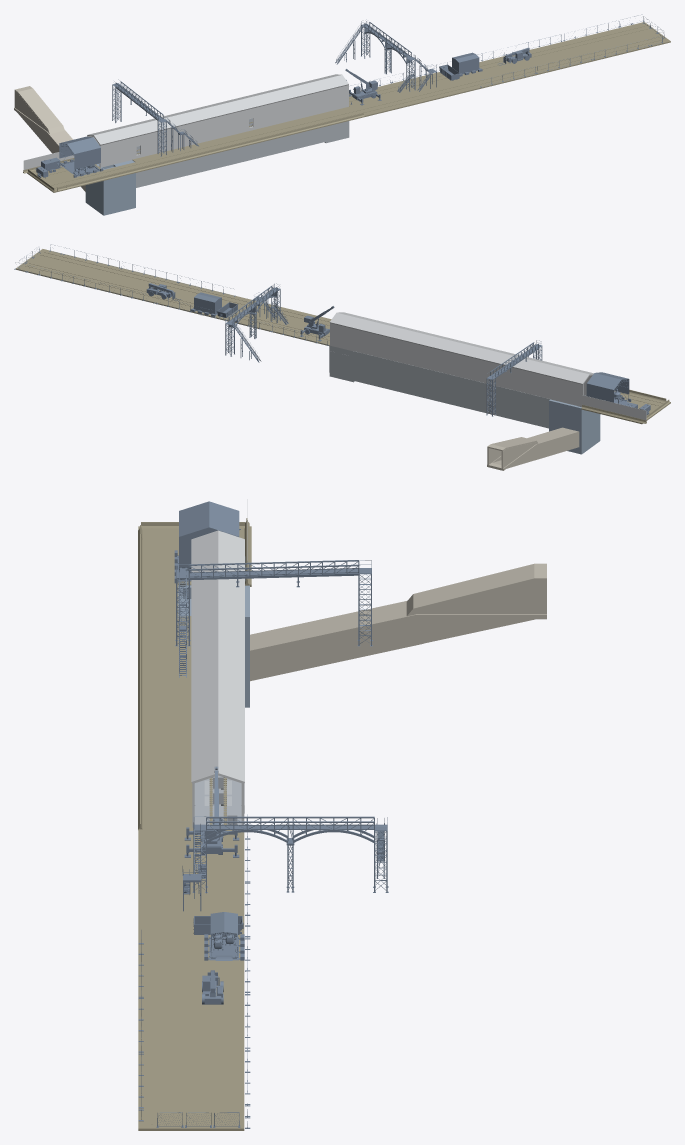
Rendered from b2d2-site-model.glb.
3 views of the same model, one above another, from view 1: azimuth 30°, elevation 25°; view 2: azimuth 150°, elevation 25°; view 3: azimuth 270°, elevation 25° (orthographic). The views are drawn at different scales.
Parts seen in each view (by area): view 1: Ground level & rails, Dumper building, Conveyors, tent & temporary works, C31 gallery, C32 tunnel, Transfer pit; view 2: Dumper building, Ground level & rails, C31 gallery, Conveyors, tent & temporary works, C32 tunnel, Transfer pit; view 3: Ground level & rails, Conveyors, tent & temporary works, C32 tunnel, Dumper building, C31 gallery, Transfer pit.
Part boxes in pixels (box(x1,y1,x2,y2)): Ground level & rails: box(23, 22, 670, 192); Dumper building: box(23, 74, 348, 169); Conveyors, tent & temporary works: box(35, 14, 665, 178); C31 gallery: box(136, 118, 349, 187); C32 tunnel: box(14, 86, 85, 191); Transfer pit: box(85, 160, 135, 215); Dumper building: box(329, 312, 646, 420); Ground level & rails: box(15, 249, 670, 424); C31 gallery: box(329, 345, 550, 428); Conveyors, tent & temporary works: box(14, 244, 650, 416); C32 tunnel: box(487, 427, 579, 470); Transfer pit: box(549, 395, 600, 454); Ground level & rails: box(138, 518, 251, 1130); Conveyors, tent & temporary works: box(138, 501, 388, 1128); C32 tunnel: box(250, 563, 546, 681); Dumper building: box(191, 499, 247, 827); C31 gallery: box(194, 775, 244, 824); Transfer pit: box(178, 585, 249, 707).
Bounding box in the file's own units: 172 × 22.82 × 49.16.
